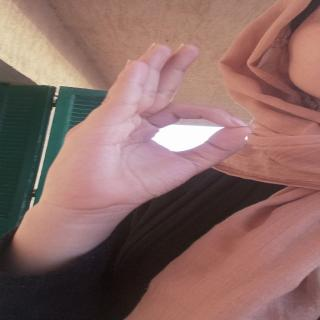Space: (50, 41, 252, 218)
